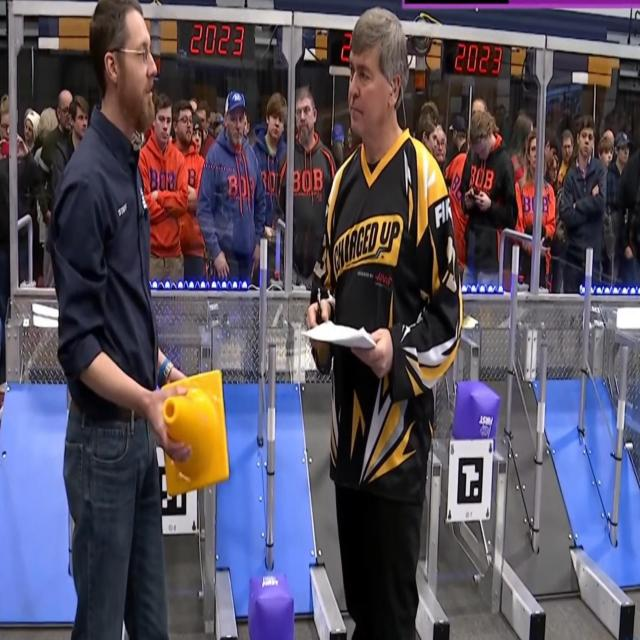frc_cone: (159, 372, 229, 497)
frc_cube: (247, 573, 294, 640), (452, 379, 499, 446)
